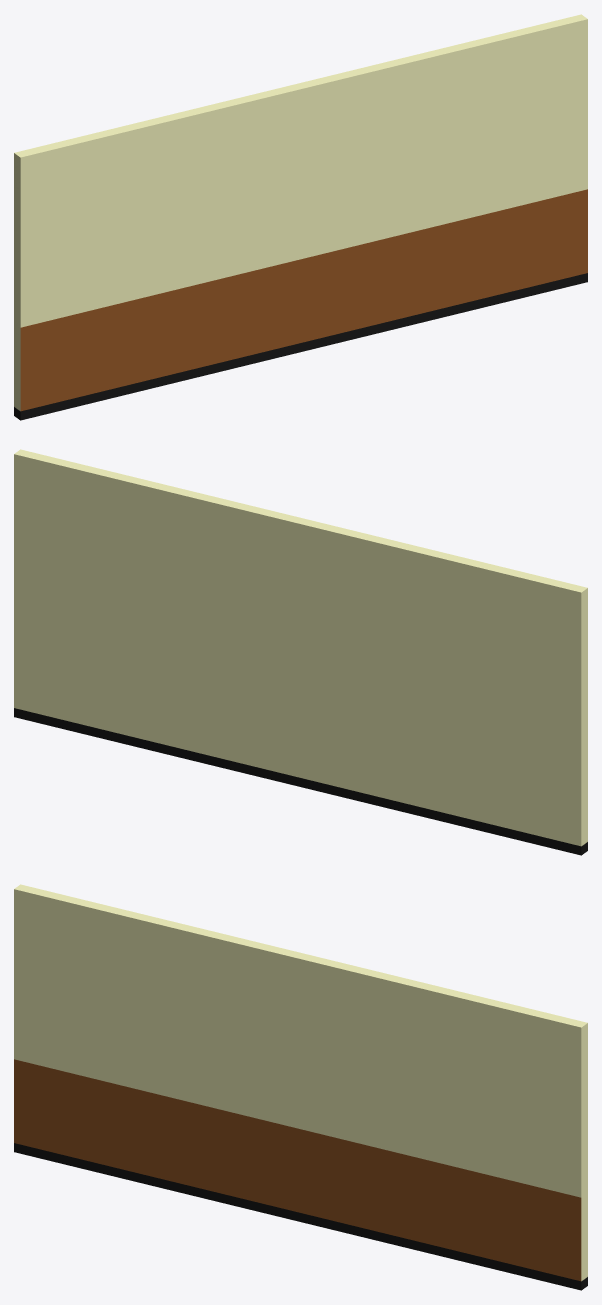
Rendered from Wall 1.fbx.
3 views of the same model, one above another, from view 1: azimuth 30°, elevation 25°; view 2: azimuth 150°, elevation 25°; view 3: azimuth 330°, elevation 25° (orthographic).
Parts seen in each view (by area): view 1: Wall 1; view 2: Wall 1; view 3: Wall 1.
Boxes of the visible parts, x1=… form: Wall 1: x1=14, y1=14, x2=587, y2=420; Wall 1: x1=14, y1=449, x2=587, y2=855; Wall 1: x1=14, y1=884, x2=587, y2=1290.
Size of the model in its own units: 655 by 290 by 13.
2 materials, 1 textured.
